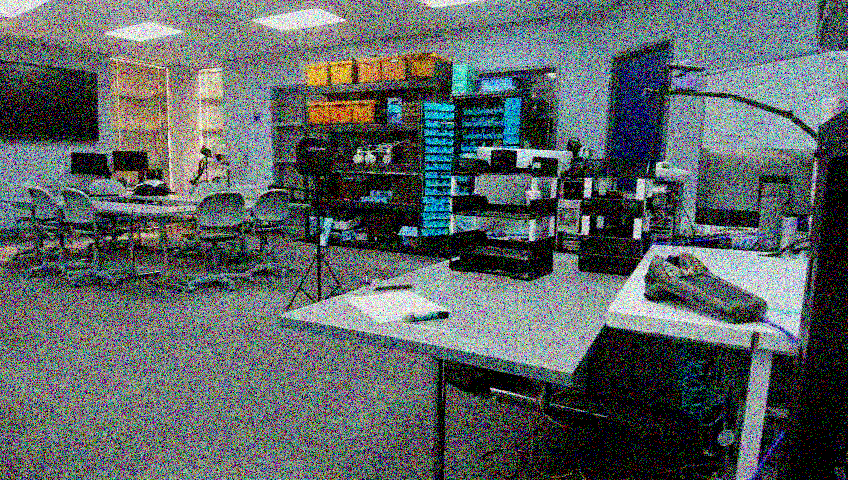black pallet: (481, 149, 519, 174)
